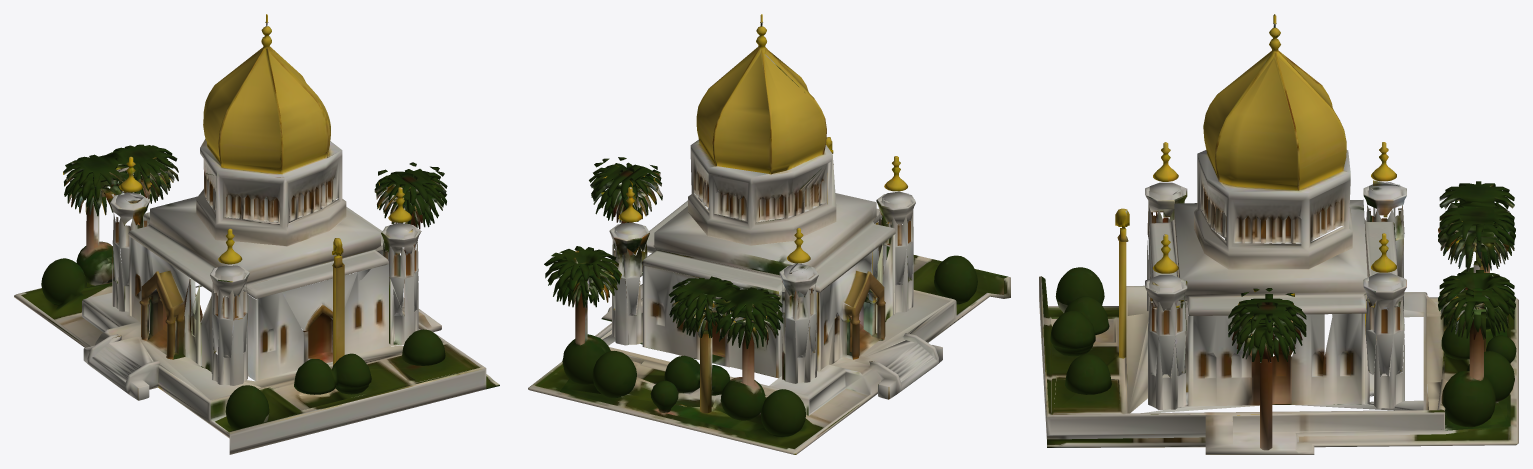
The model's file is masjid.glb.
3 renders of one model, left to right at view 1: azimuth 30°, elevation 25°; view 2: azimuth 150°, elevation 25°; view 3: azimuth 270°, elevation 25°, orthographic. The views are drawn at different scales.
Visible parts, largest first — view 1: tripo_node_acfb8538; view 2: tripo_node_acfb8538; view 3: tripo_node_acfb8538.
Boxes of the visible parts, box(x1,y1,x2,y2) form: tripo_node_acfb8538: box(14, 14, 499, 454); tripo_node_acfb8538: box(528, 14, 1010, 454); tripo_node_acfb8538: box(1039, 14, 1518, 454).
Size of the model in its own units: 0.881 by 0.8407 by 1.
Materials: 1 (1 with a texture image).
